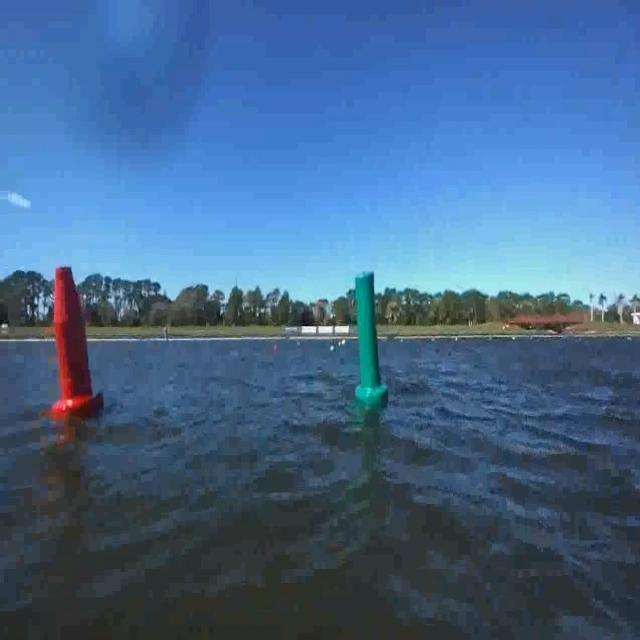green-column-buoy: (352, 272, 388, 403)
red-column-buoy: (52, 264, 103, 421)
